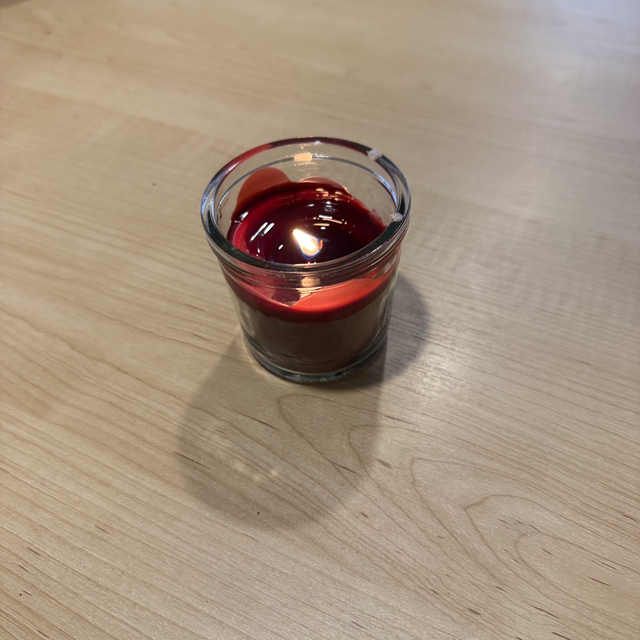Candle: (201, 136, 411, 385)
